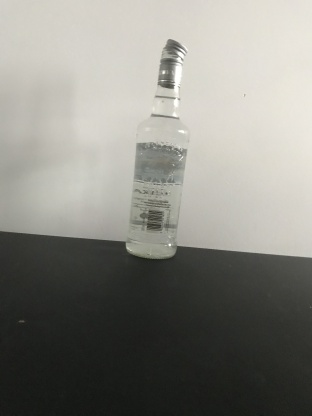nakretka: (156, 36, 188, 89)
